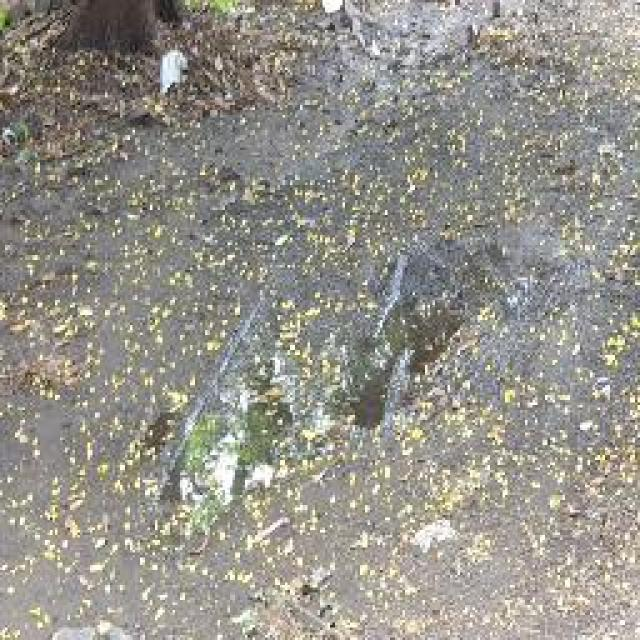stagnation: (112, 212, 604, 545)
